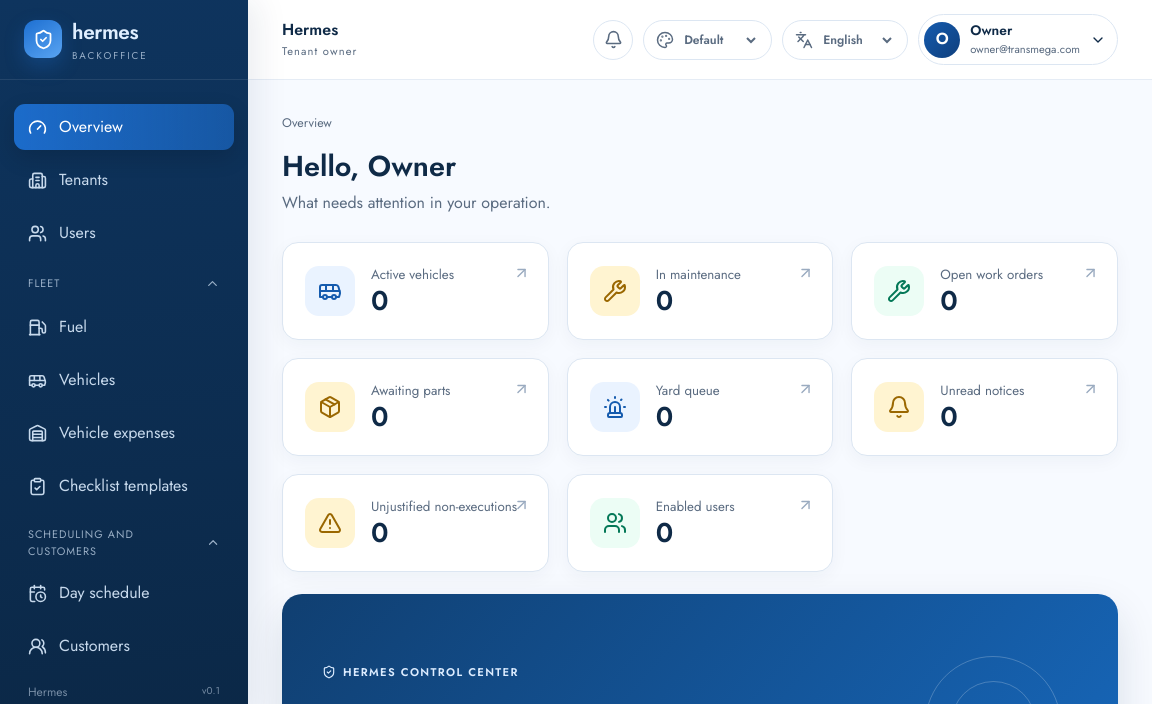
it: App route guards (EPIC-BO-02, EPIC-BO-04) › collapses and expands navigation groups
The width and height of the screenshot is (1152, 704).
Expected: the link "Vehicles" is shown, [28, 368, 115, 391]
Click the button "Fleet".
click(124, 280)  # box [14, 263, 234, 297]
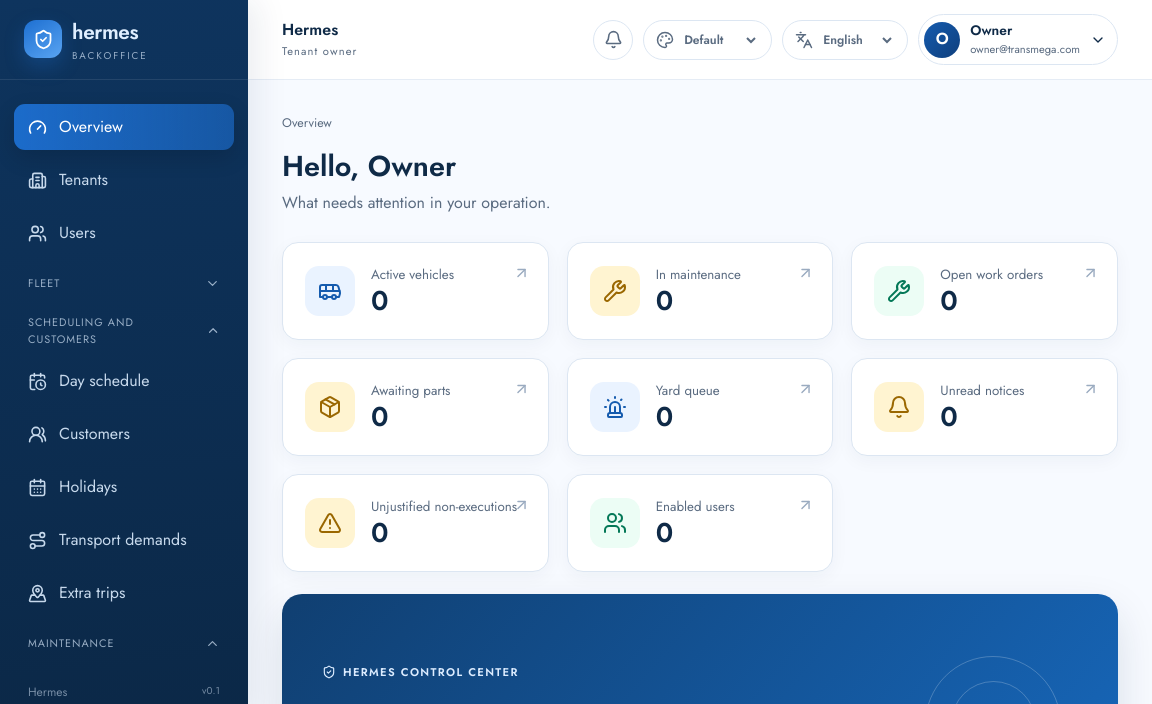
Expected: the button "Fleet" is collapsed
Click the button "Fleet".
click(124, 280)  # box [14, 263, 234, 297]
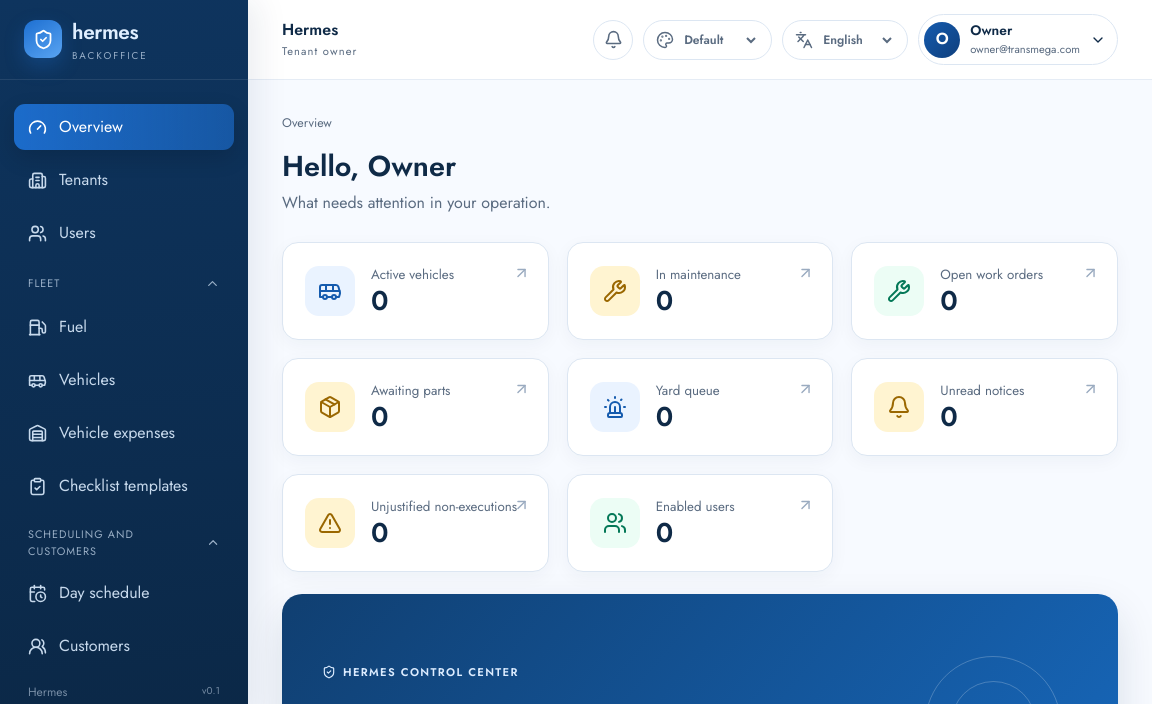
Expected: the button "Fleet" is expanded, [14, 263, 234, 297]
Expected: the link "Vehicles" is shown, [28, 368, 115, 391]
